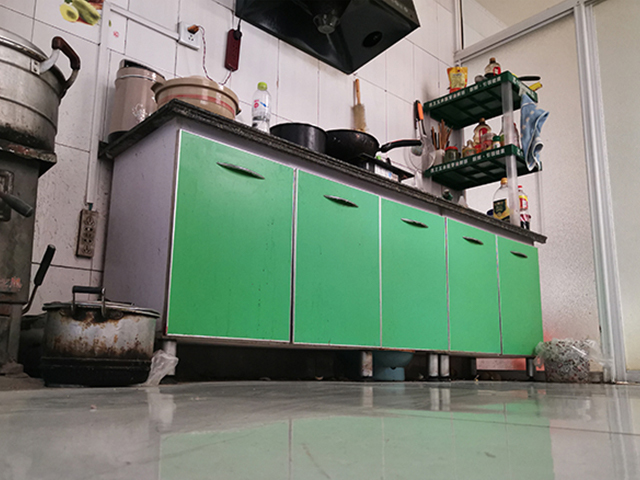cabinet: (96, 96, 549, 384)
trashcan: (535, 334, 594, 385)
